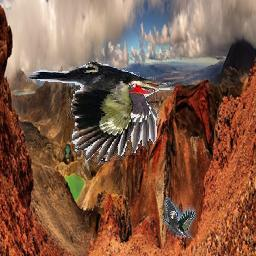Woodpecker: (26, 60, 174, 166), (162, 198, 196, 239)
